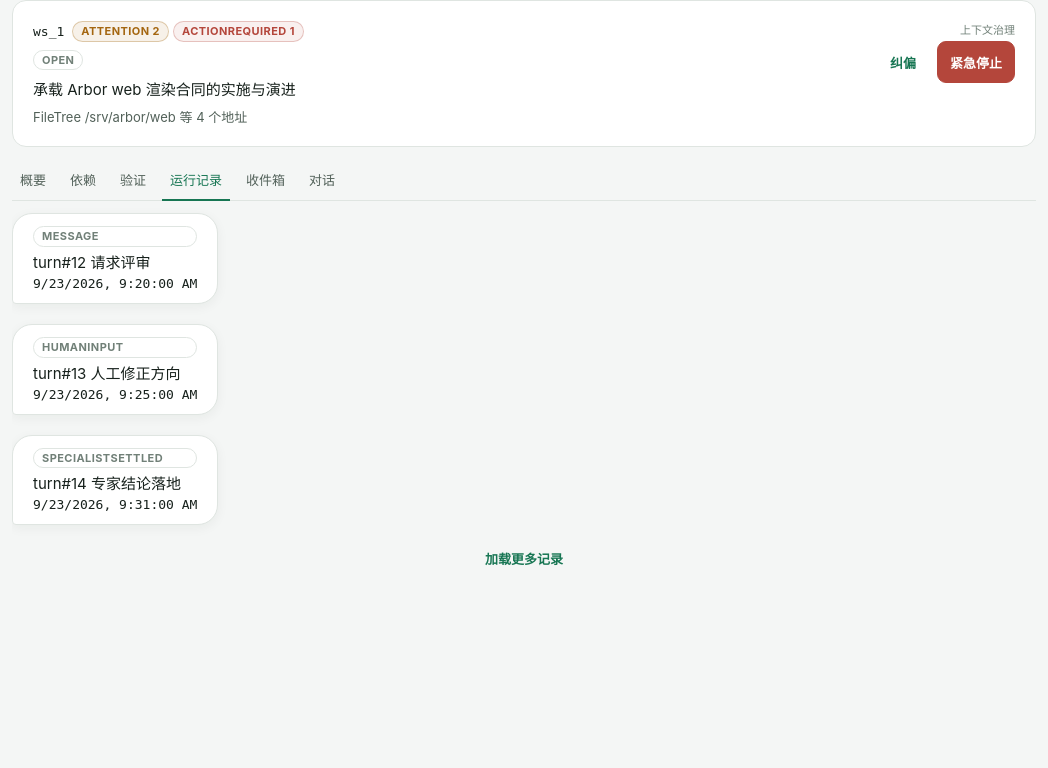
W-05 Workspace page › 运行记录：无输入框；加载更多触发带 cursor 的第二次 fetch
The image size is (1048, 768).
Check: the text "turn#12 请求评审" is shown, box [33,253,150,272]
Click the button "加载更多记录" at [524, 558], box [12,537,1036,579]
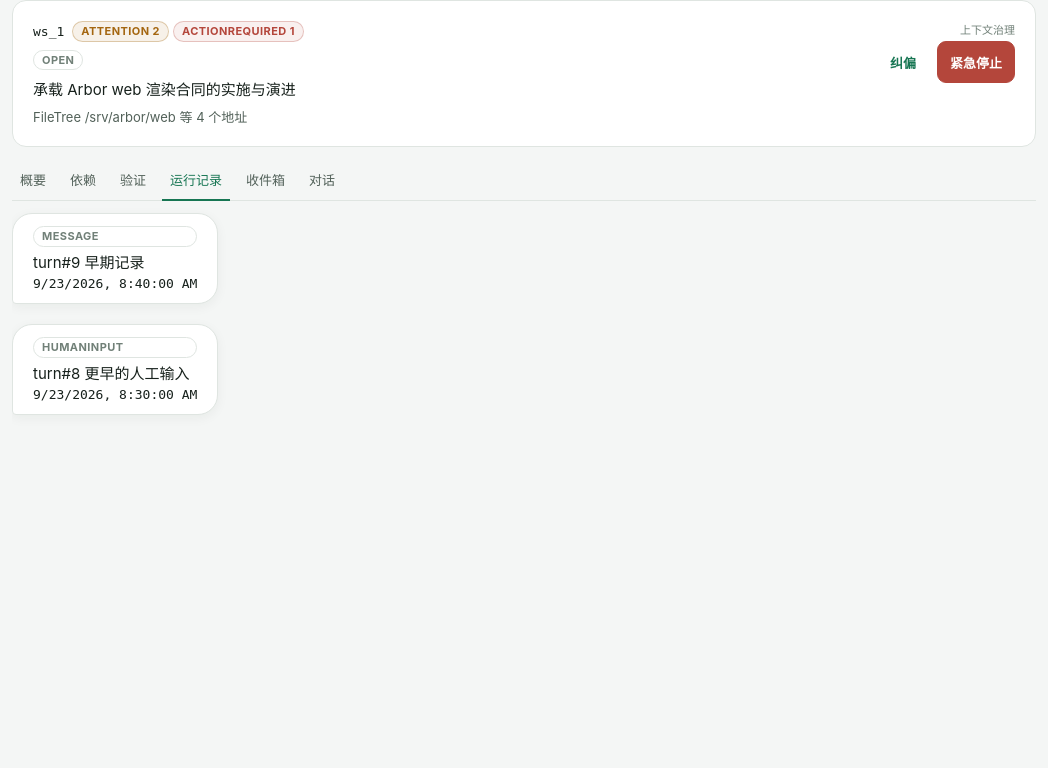
Check: the text "turn#9 早期记录" is shown, box [33,253,144,272]
